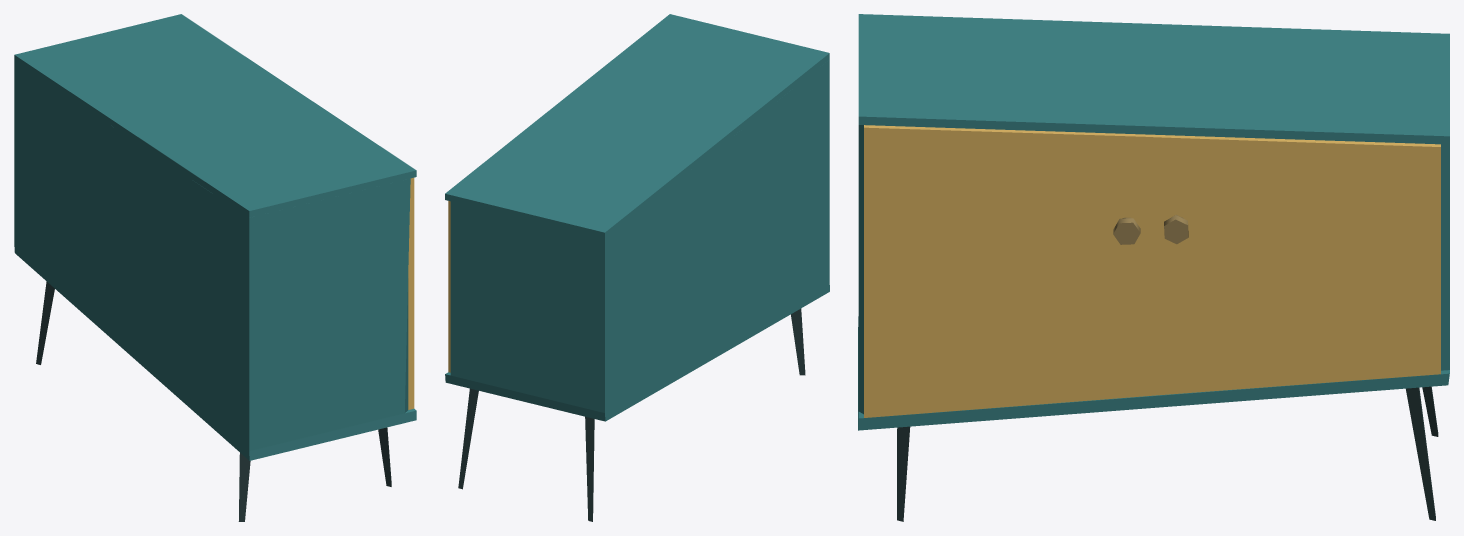
The model's file is pedestal living room door left.fbx.
The picture shows the model from 3 angles, left to right: view 1: azimuth 30°, elevation 25°; view 2: azimuth 150°, elevation 25°; view 3: azimuth 270°, elevation 25°; orthographic projection. The views are drawn at different scales.
Visible parts, largest first — view 1: pedestal living room, pedestal living room door right; view 2: pedestal living room, pedestal living room door left; view 3: pedestal living room door right, pedestal living room, pedestal living room door left.
Part boxes in pixels (<box>): pedestal living room: <box>14,14,416,521</box>; pedestal living room door right: <box>408,177,414,409</box>; pedestal living room: <box>445,14,829,521</box>; pedestal living room door left: <box>448,201,450,372</box>; pedestal living room door right: <box>864,125,1153,417</box>; pedestal living room: <box>858,14,1449,521</box>; pedestal living room door left: <box>1153,134,1440,395</box>.
Bounding box in the file's own units: 0.7132 × 1.21 × 1.59.
